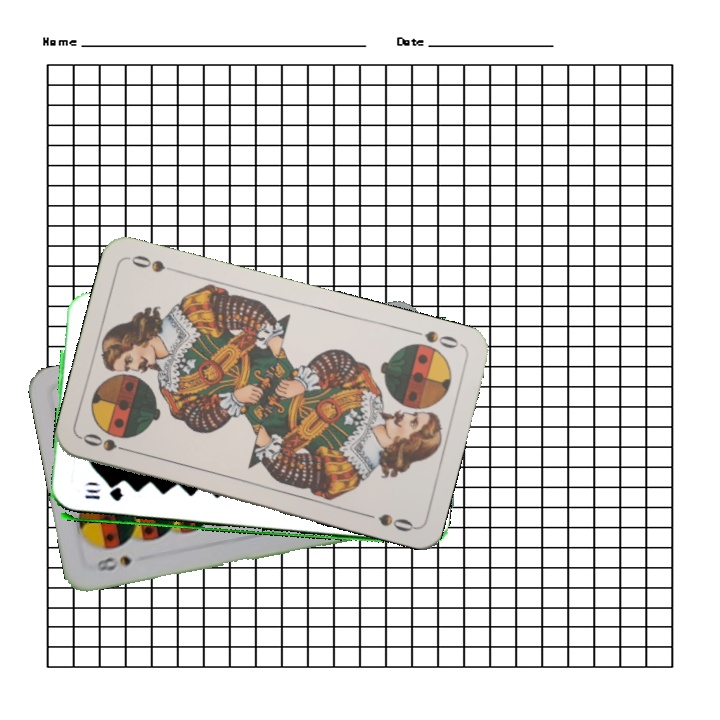G10: (81, 487, 126, 504)
S8: (93, 551, 135, 574)
SO: (78, 429, 137, 456), (407, 326, 465, 351)
